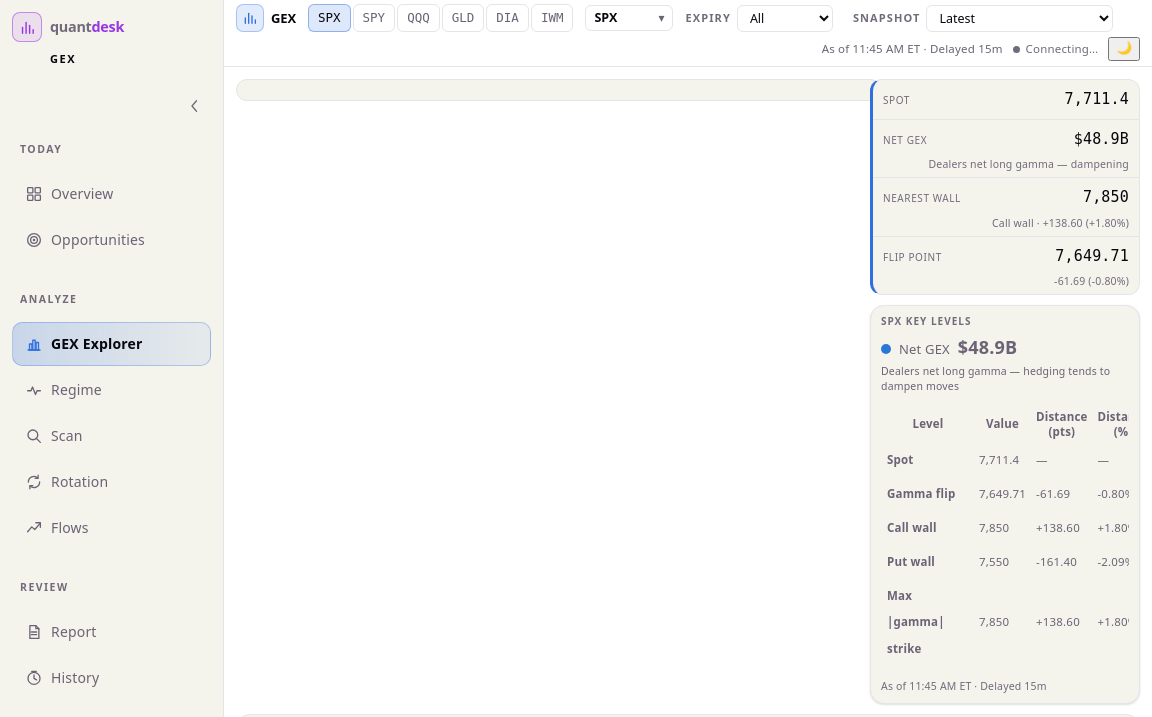
Scenario: App › clicking the QQQ symbol option updates the URL and reloads QQQ data
Expected: the heading "SPX key levels" is shown, [881,314,972,328]
What coordinates should you click on to do the following:
click the button named "Symbol SPX"
I would click on:
 (630, 18)
Its box is [586,5,674,31].
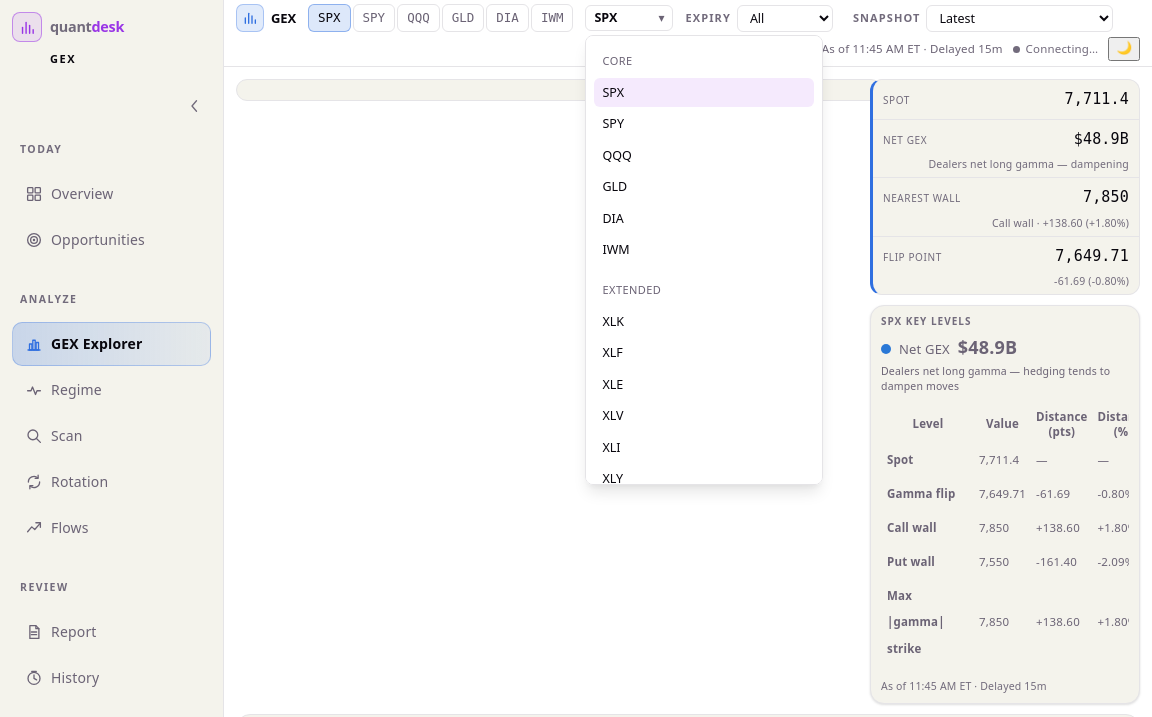
What coordinates should you click on to do the following:
click the option "QQQ"
I would click on:
 (704, 156)
Its box is [594,141,814,170].
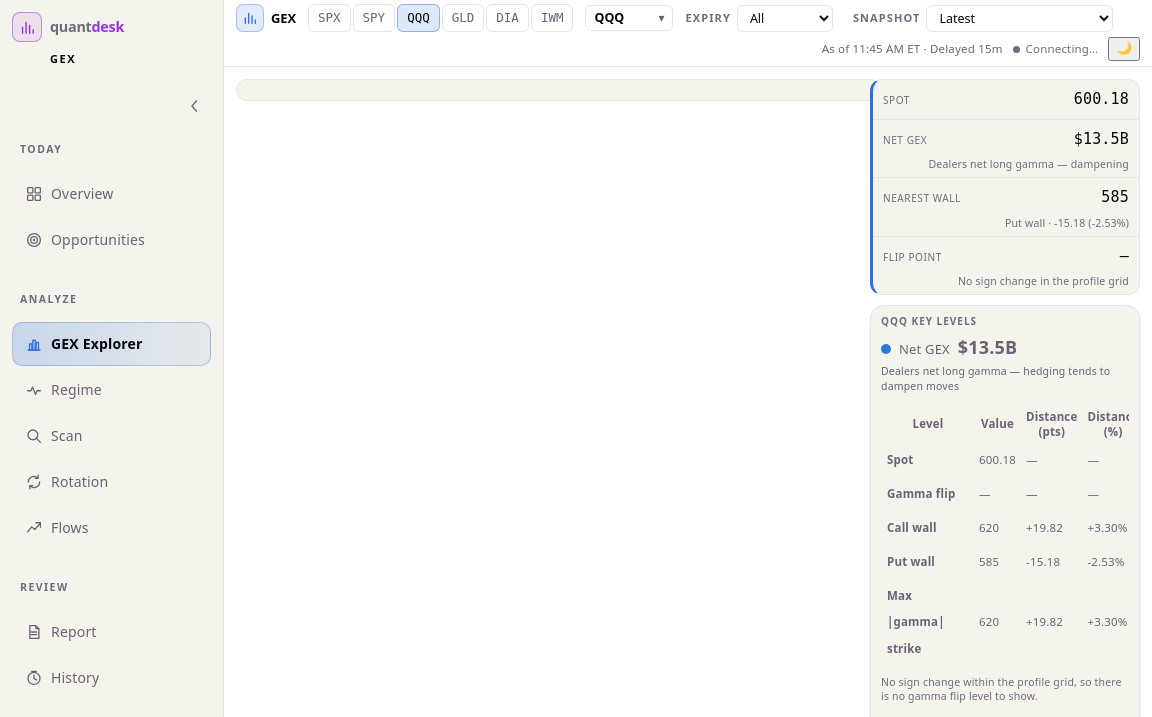
Expected: the button named "Symbol QQQ" is shown, [586,5,674,31]
Expected: the heading "QQQ key levels" is shown, [881,314,977,328]
